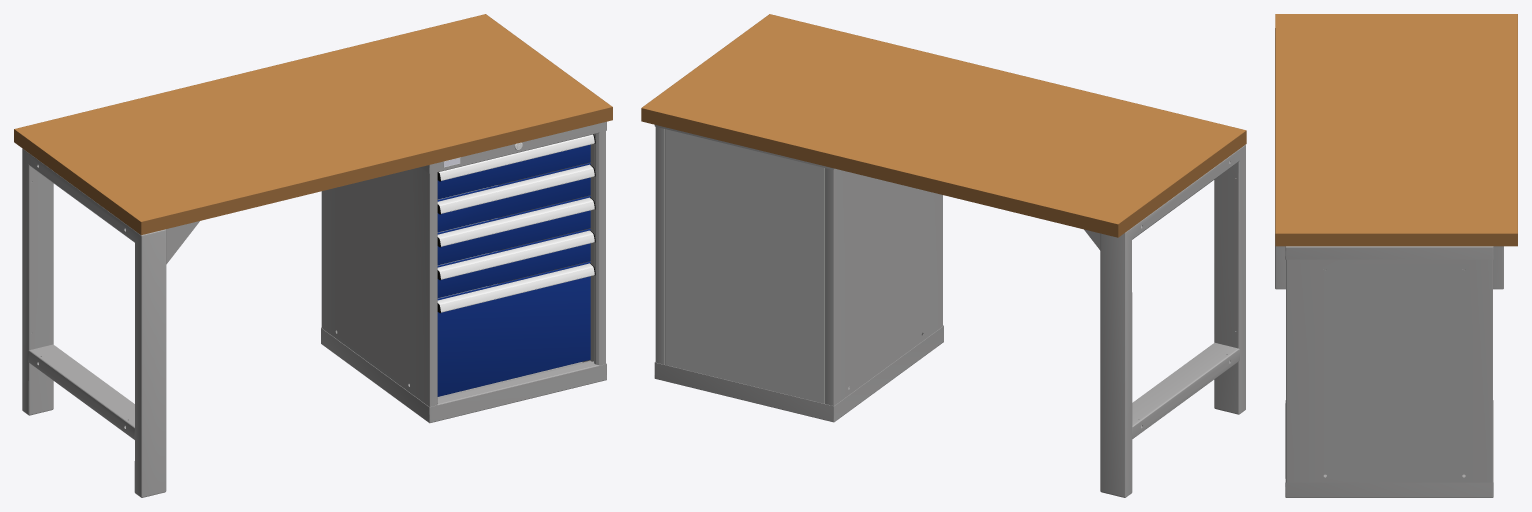
3 views of the same model, side by side, from view 1: azimuth 30°, elevation 25°; view 2: azimuth 150°, elevation 25°; view 3: azimuth 270°, elevation 25° (orthographic). The views are drawn at different scales.
Parts seen in each view (by area): view 1: FbxMesh (×7); view 2: FbxMesh (×5); view 3: FbxMesh (×3).
Part boxes in pixels (x1=…): FbxMesh (×7): x1=14, y1=14, x2=612, y2=497; FbxMesh (×5): x1=641, y1=14, x2=1246, y2=497; FbxMesh (×3): x1=1275, y1=14, x2=1517, y2=497.
Bounding box in the file's own units: 150 × 84.22 × 70.04.
